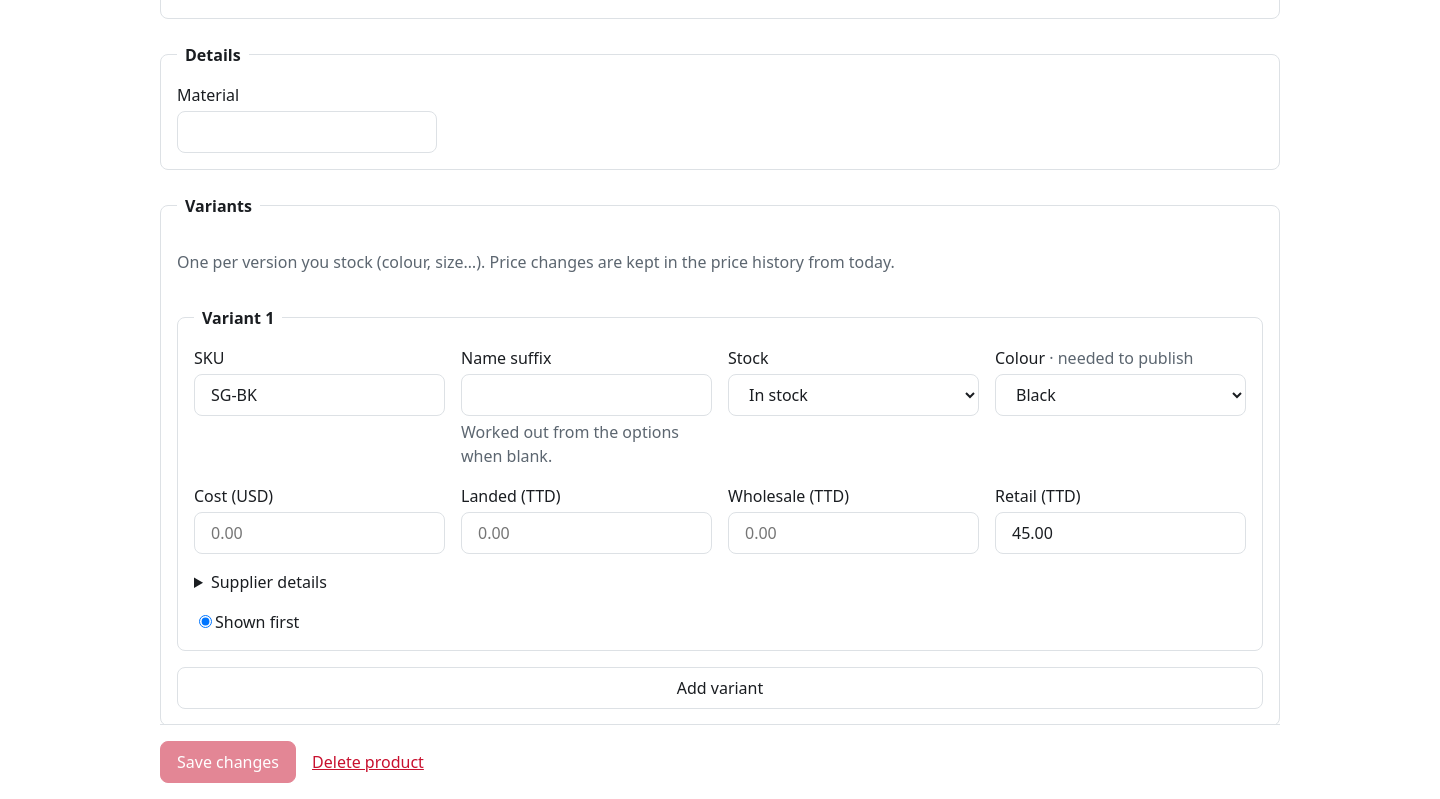
product editor › lists the server's problems and shows each beside its field
(page scrolled)
Replace the text in the field showing "SG-BK" with "SG-RD" at (320, 395), box [194,374,445,416]
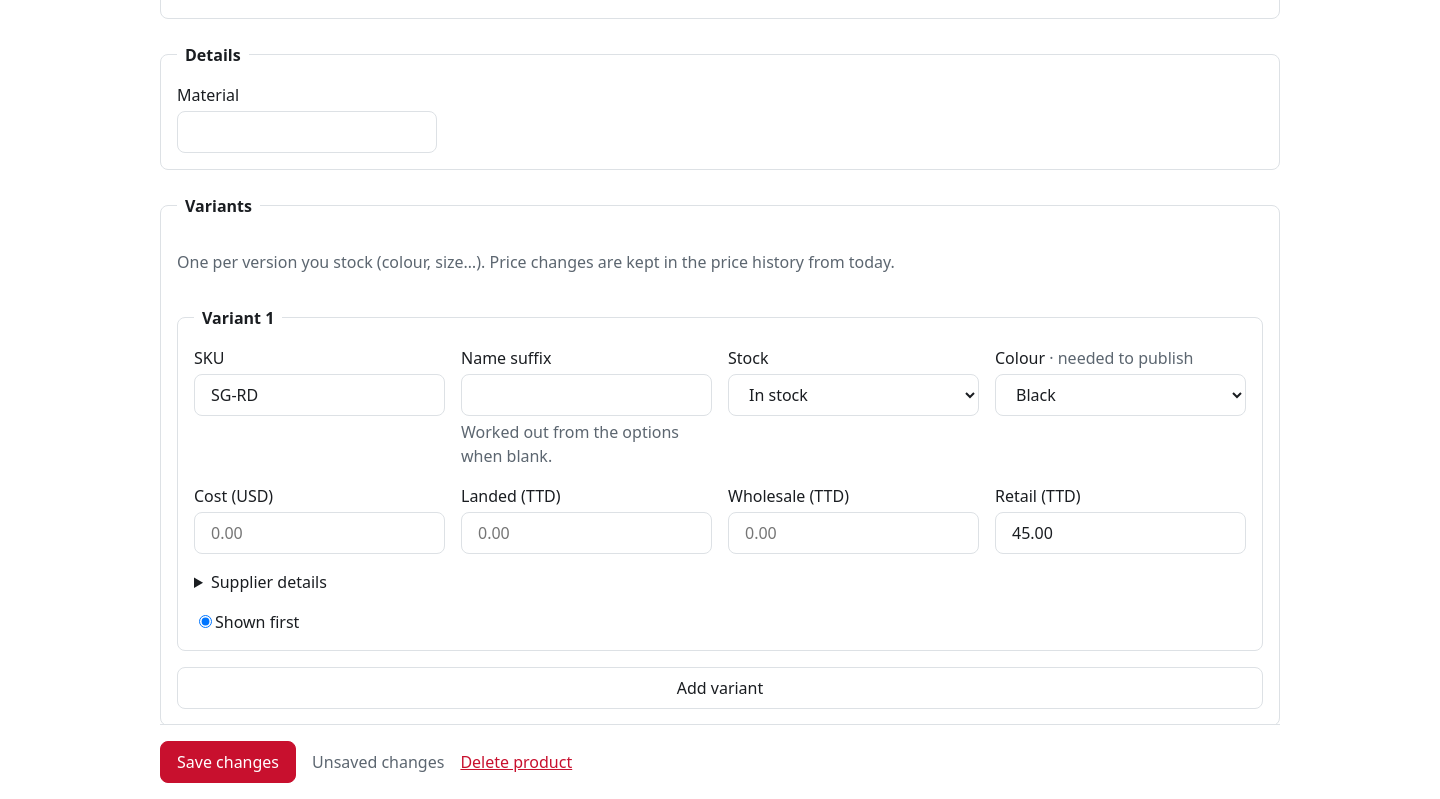
Click the button "Save changes" at (228, 762), box [160,741,296,783]
(page scrolled)
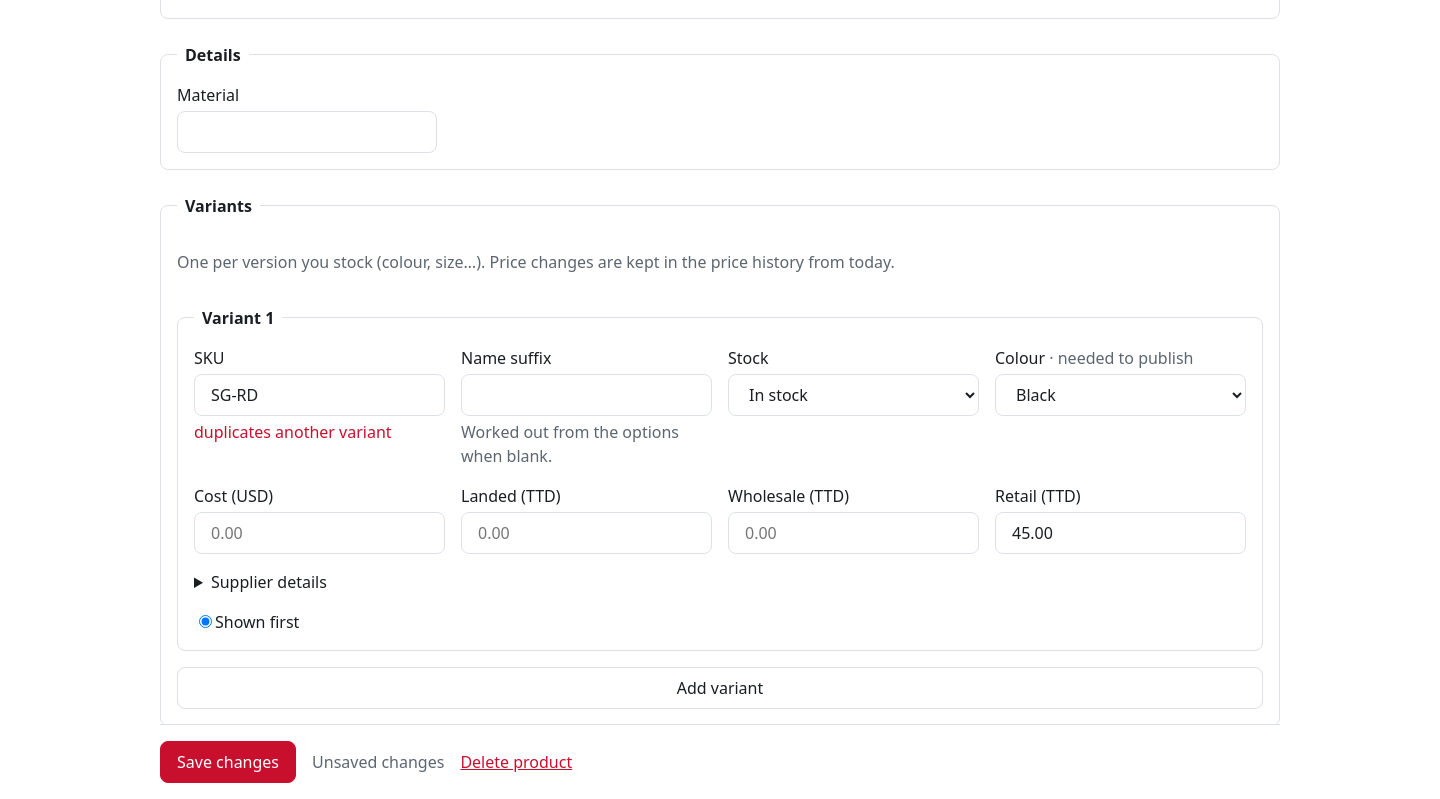
Now the text "duplicates another variant" is shown, box [194,421,392,443]
